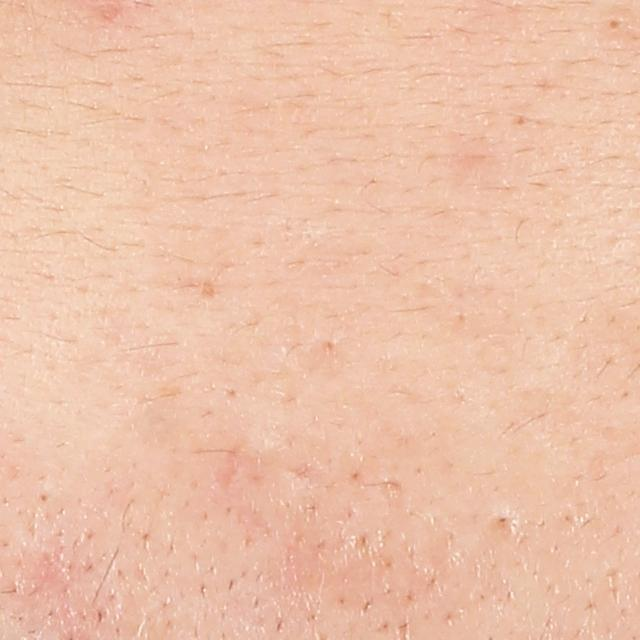atrophic_scar: (212, 443, 249, 494), (483, 508, 522, 540)
comedo: (599, 7, 633, 44)
